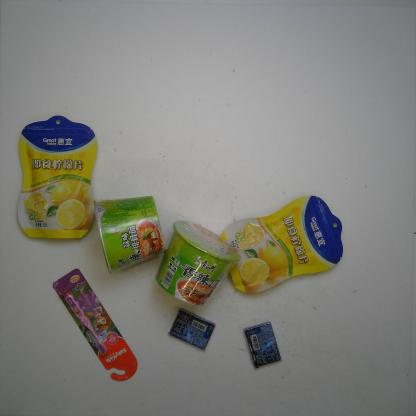Dried Fruit: (216, 195, 345, 295), (16, 115, 97, 241)
Gum: (168, 307, 214, 350), (243, 320, 282, 370)
Instant Noodles: (155, 218, 239, 306), (93, 195, 165, 273)
Personal Hygiene: (51, 266, 139, 383)
